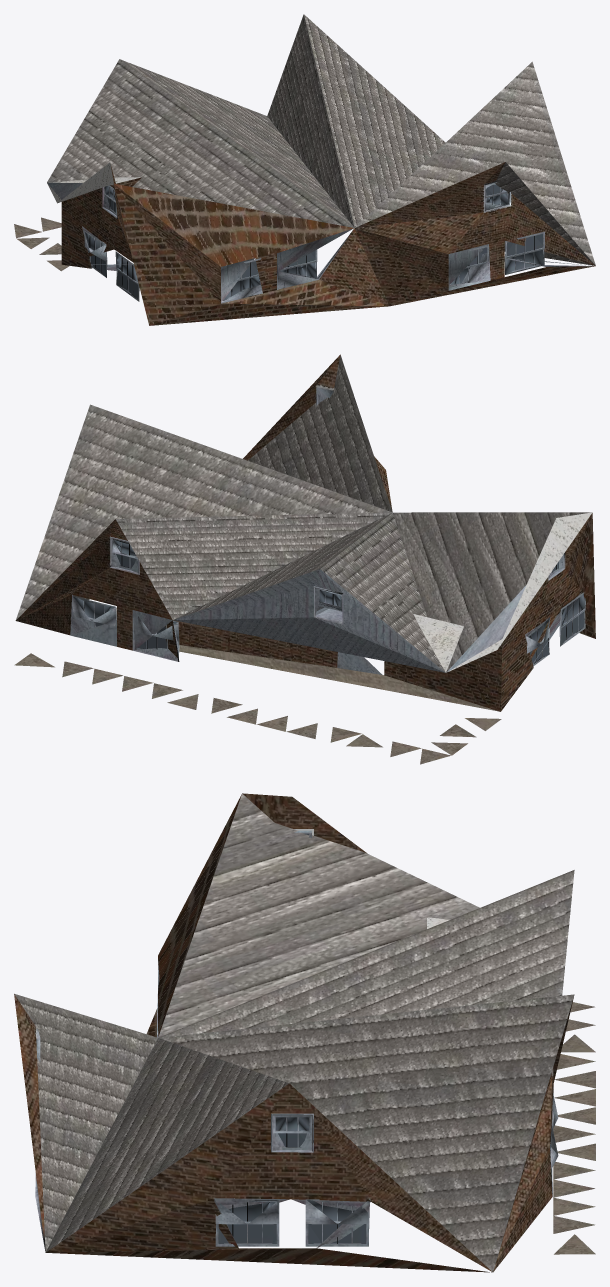
File: brick_cottage_lod1.glb
3 views of the same model, one above another, from view 1: azimuth 30°, elevation 25°; view 2: azimuth 150°, elevation 25°; view 3: azimuth 270°, elevation 25° (orthographic). The views are drawn at different scales.
Visible parts, largest first — view 1: brick_cottage; view 2: brick_cottage; view 3: brick_cottage.
Part boxes in pixels (<box>): brick_cottage: <box>14,14,595,325</box>; brick_cottage: <box>14,354,595,764</box>; brick_cottage: <box>14,793,595,1272</box>.
Size of the model in its own units: 19.09 by 6.12 by 15.81.
1 material, 1 textured.
